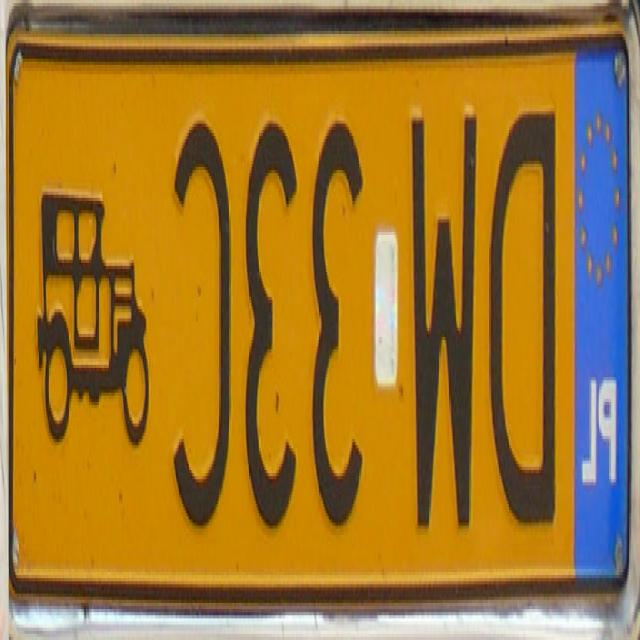pl_license_plate: (12, 40, 630, 581)
